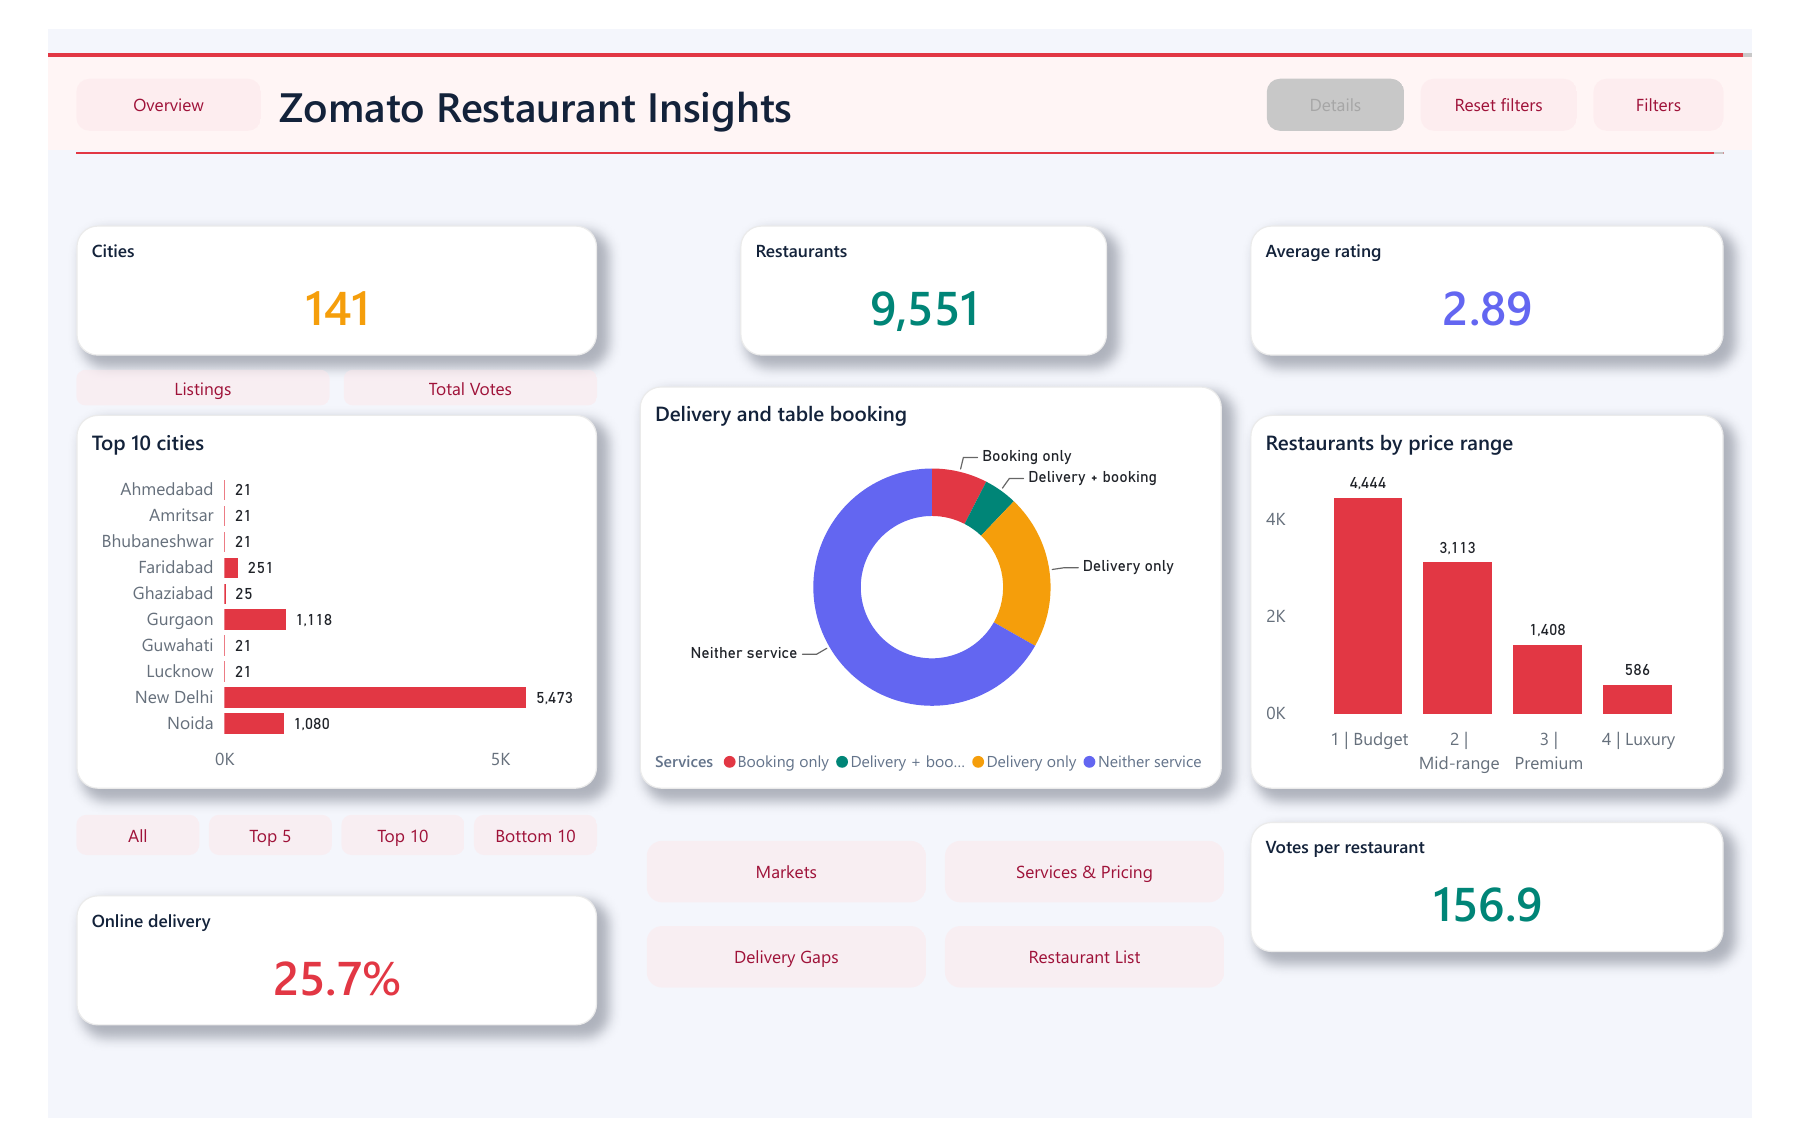

The dashboard page shown, as its layout file describes it:
{"tool":"powerbi","page":{"name":"Overview","canvas":[1440,900],"ordinal":0},"visuals":[{"type":"textbox","box":[0,0,1440,4],"z":0},{"type":"textbox","box":[0,4,1440,78],"z":0},{"type":"textbox","box":[24,84,1392,2],"z":0},{"type":"textbox","box":[196,22,816,48],"z":100},{"type":"card","title":"Restaurants","fields":{"Values":["zomato.Listings"]},"box":[585,146,310,110],"z":105},{"type":"card","title":"Cities","fields":{"Values":["zomato.Cities"]},"box":[24,146,440,110],"z":106},{"type":"card","title":"Average rating","fields":{"Values":["zomato.Average Source Rating"]},"box":[1016,146,400,110],"z":107},{"type":"card","title":"Online delivery","fields":{"Values":["zomato.Delivery Coverage"]},"box":[24,712,440,110],"z":108},{"type":"card","title":"Votes per restaurant","fields":{"Values":["zomato.Votes per Listing"]},"box":[1016,650,400,110],"z":109},{"type":"clusteredBarChart","title":"Top 10 cities","fields":{"Category":["zomato.City","zomato.RestaurantName"],"Y":["zomato.City Top 10"]},"box":[24,306,440,316],"z":110},{"type":"donutChart","title":"Delivery and table booking","fields":{"Category":["zomato.ServiceProfile"],"Y":["zomato.Listings"]},"box":[500,282,492,340],"z":111},{"type":"columnChart","title":"Restaurants by price range","fields":{"Category":["zomato.PriceTier"],"Y":["zomato.Listings"]},"box":[1016,306,400,316],"z":112},{"type":"actionButton","box":[24,22,156,44],"z":5000},{"type":"actionButton","box":[1030,22,116,44],"z":5000},{"type":"actionButton","box":[1160,22,132,44],"z":5000},{"type":"actionButton","box":[1306,22,110,44],"z":5000},{"type":"actionButton","box":[24,268,214,30],"z":5000},{"type":"actionButton","box":[250,268,214,30],"z":5000},{"type":"actionButton","box":[24,644,104,34],"z":5000},{"type":"actionButton","box":[136,644,104,34],"z":5000},{"type":"actionButton","box":[248,644,104,34],"z":5000},{"type":"actionButton","box":[360,644,104,34],"z":5000},{"type":"actionButton","box":[506,666,236,52],"z":5000},{"type":"actionButton","box":[758,666,236,52],"z":5000},{"type":"actionButton","box":[506,738,236,52],"z":5000},{"type":"actionButton","box":[758,738,236,52],"z":5000}]}

Visuals, with their boxes in screenshot pixels (x1, y1, x2, y2), scaled from the page's 1440x900 canvas onto the 1800x1147 screenshot:
textbox: box=[0, 0, 1799, 5]
textbox: box=[0, 5, 1799, 105]
textbox: box=[30, 107, 1770, 110]
textbox: box=[245, 28, 1265, 89]
"Restaurants" card: box=[731, 186, 1119, 326]
"Cities" card: box=[30, 186, 580, 326]
"Average rating" card: box=[1270, 186, 1770, 326]
"Online delivery" card: box=[30, 907, 580, 1048]
"Votes per restaurant" card: box=[1270, 828, 1770, 969]
"Top 10 cities" clusteredBarChart: box=[30, 390, 580, 793]
"Delivery and table booking" donutChart: box=[625, 359, 1240, 793]
"Restaurants by price range" columnChart: box=[1270, 390, 1770, 793]
actionButton: box=[30, 28, 225, 84]
actionButton: box=[1288, 28, 1432, 84]
actionButton: box=[1450, 28, 1615, 84]
actionButton: box=[1632, 28, 1770, 84]
actionButton: box=[30, 342, 298, 380]
actionButton: box=[312, 342, 580, 380]
actionButton: box=[30, 821, 160, 864]
actionButton: box=[170, 821, 300, 864]
actionButton: box=[310, 821, 440, 864]
actionButton: box=[450, 821, 580, 864]
actionButton: box=[632, 849, 928, 915]
actionButton: box=[948, 849, 1242, 915]
actionButton: box=[632, 941, 928, 1007]
actionButton: box=[948, 941, 1242, 1007]
